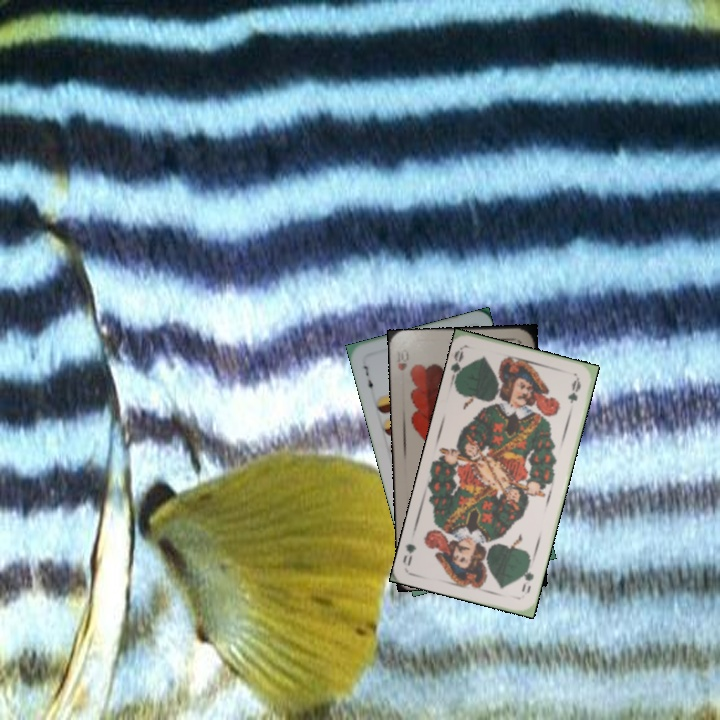E7: (360, 361, 376, 396)
GO: (446, 345, 469, 386), (518, 558, 537, 596)
H10: (394, 345, 411, 373)
